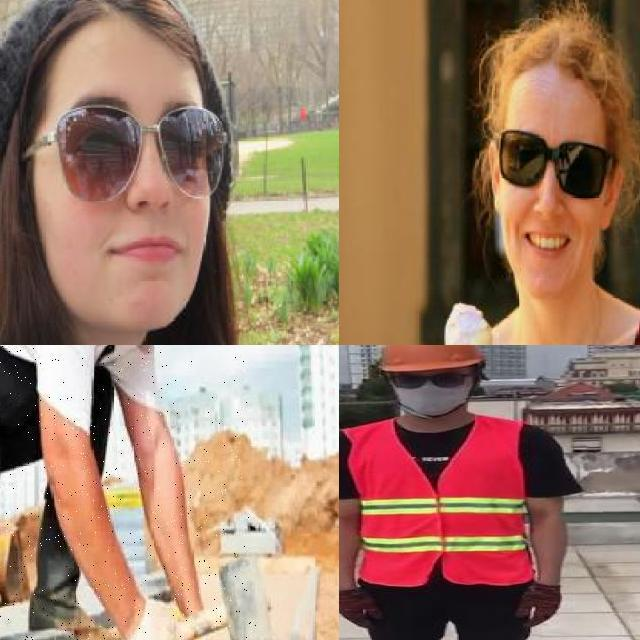boots: (20, 592, 125, 640)
face_mask: (386, 370, 472, 412)
face_nomask: (49, 98, 224, 284), (496, 132, 611, 272)
glasses: (41, 90, 229, 207), (487, 121, 620, 199), (383, 368, 472, 392)
hand_glove: (339, 587, 386, 630), (516, 584, 560, 628)
head_helmet: (373, 345, 485, 374)
head_nohelmet: (0, 0, 226, 66), (489, 13, 627, 113)
person: (0, 0, 252, 345), (410, 0, 640, 345), (339, 345, 590, 640), (0, 345, 249, 640)
vest: (349, 417, 535, 587)
